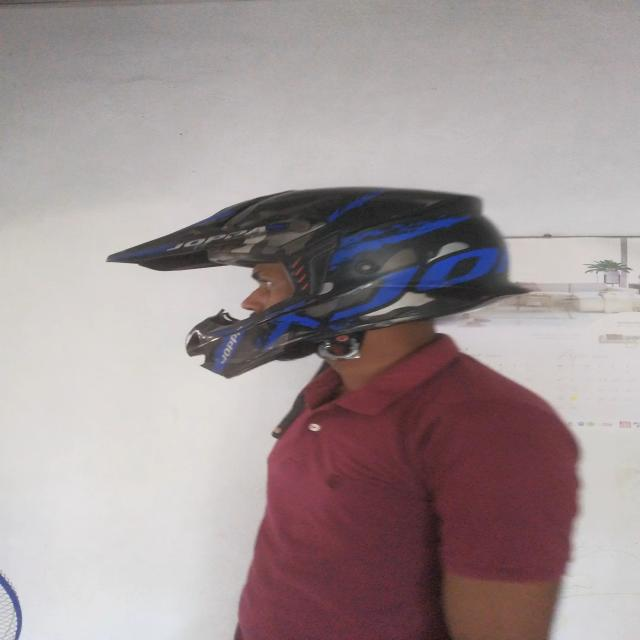Helmet_Wearer: (101, 174, 529, 434)
Person: (209, 182, 576, 640)
